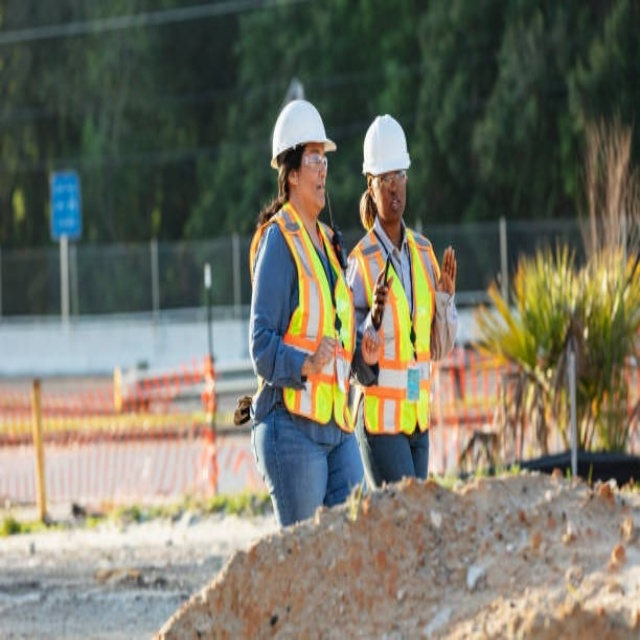Gafas: (375, 170, 408, 187), (301, 154, 329, 170)
Sin_guantes: (371, 262, 398, 322), (306, 331, 339, 378), (429, 246, 461, 294), (358, 325, 384, 367)
Sin_mascara: (308, 178, 326, 204), (386, 193, 404, 215)
